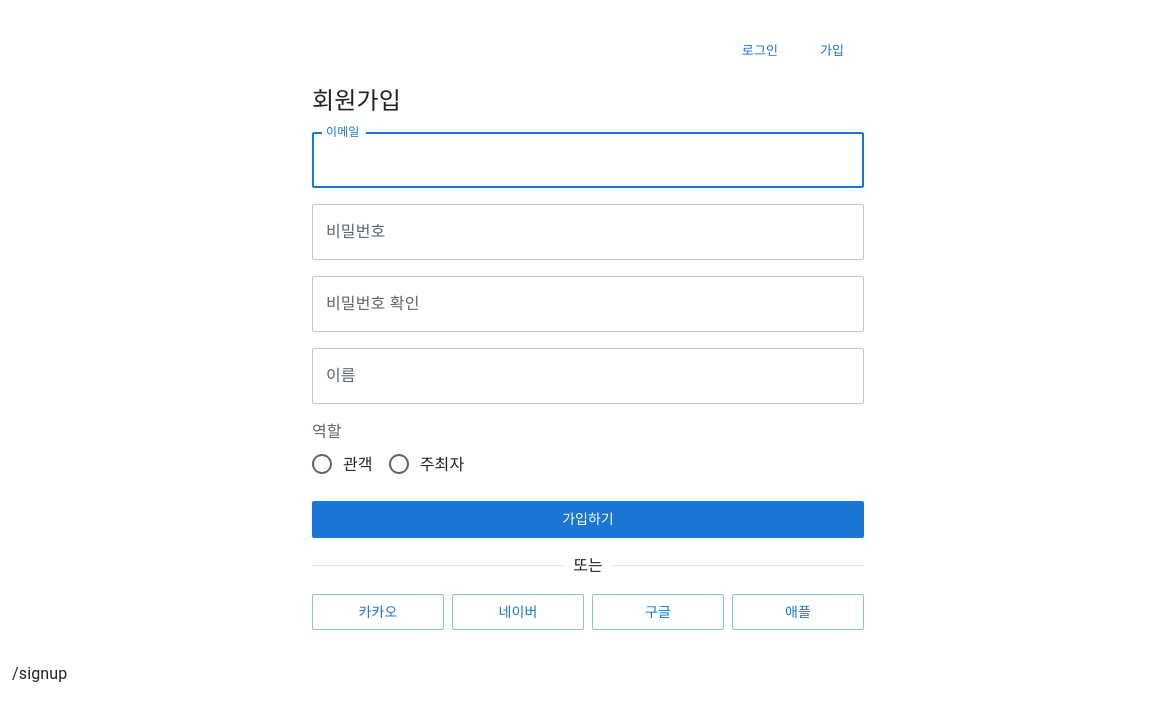
Test: TASK-010 이메일 회원가입/로그인 화면 › SC-07 (error) 필수 입력과 길이 위반은 서버로 보내지 않고 필드 아래에 알린다 — 가입 비밀번호 빈 값
The image size is (1164, 711).
Type "hong@example.com" into the field labelled "이메일".
click(588, 160); type("hong@example.com")  # box [312,132,864,188]
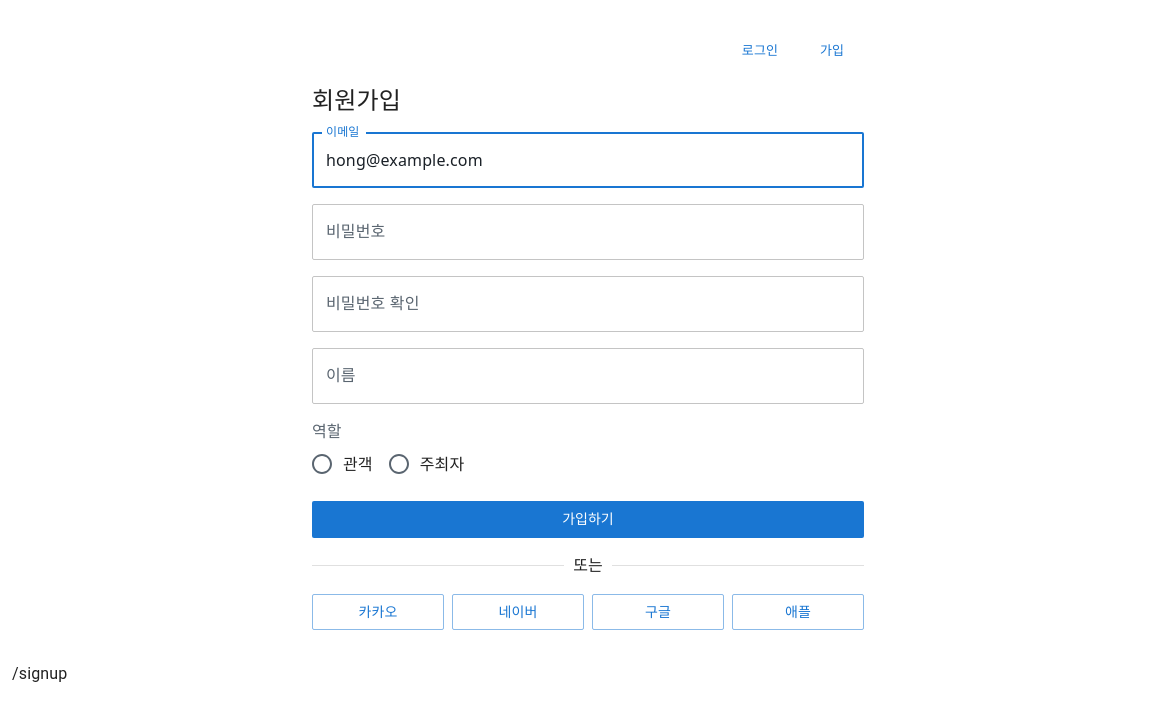
Type "홍길동" into the field labelled "이름".
click(588, 376); type("홍길동")  # box [312,348,864,404]
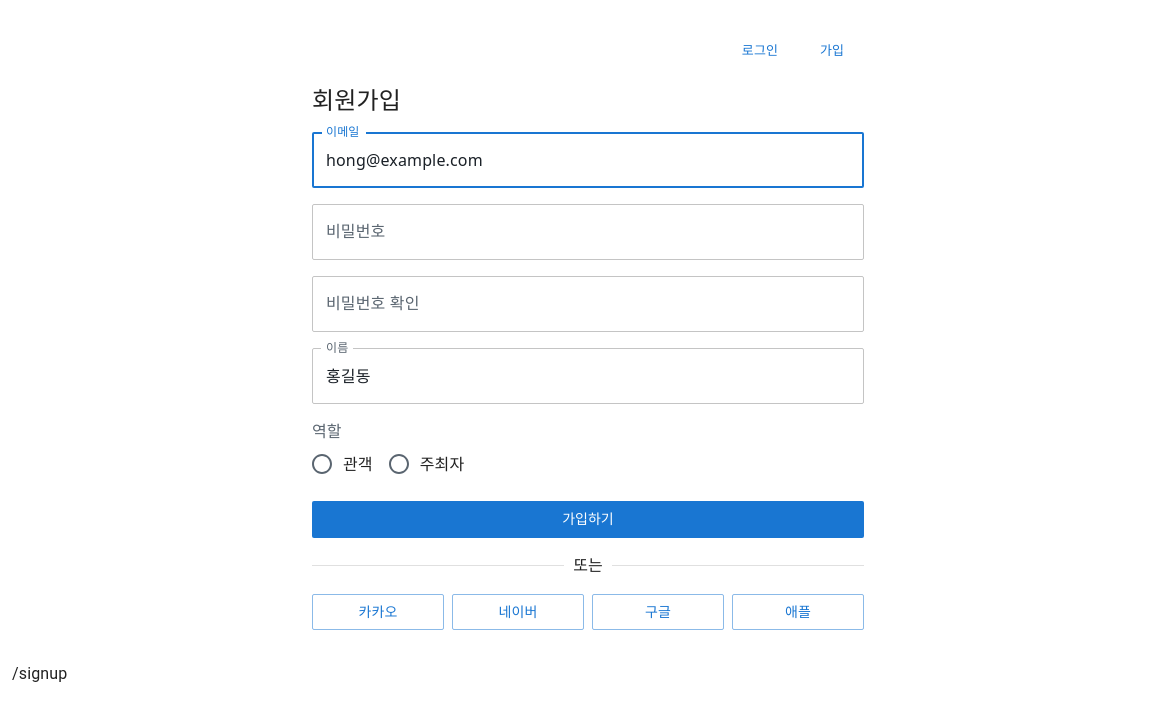
Click the radio button labelled "주최자".
click(426, 464)  # box [387,452,464,476]
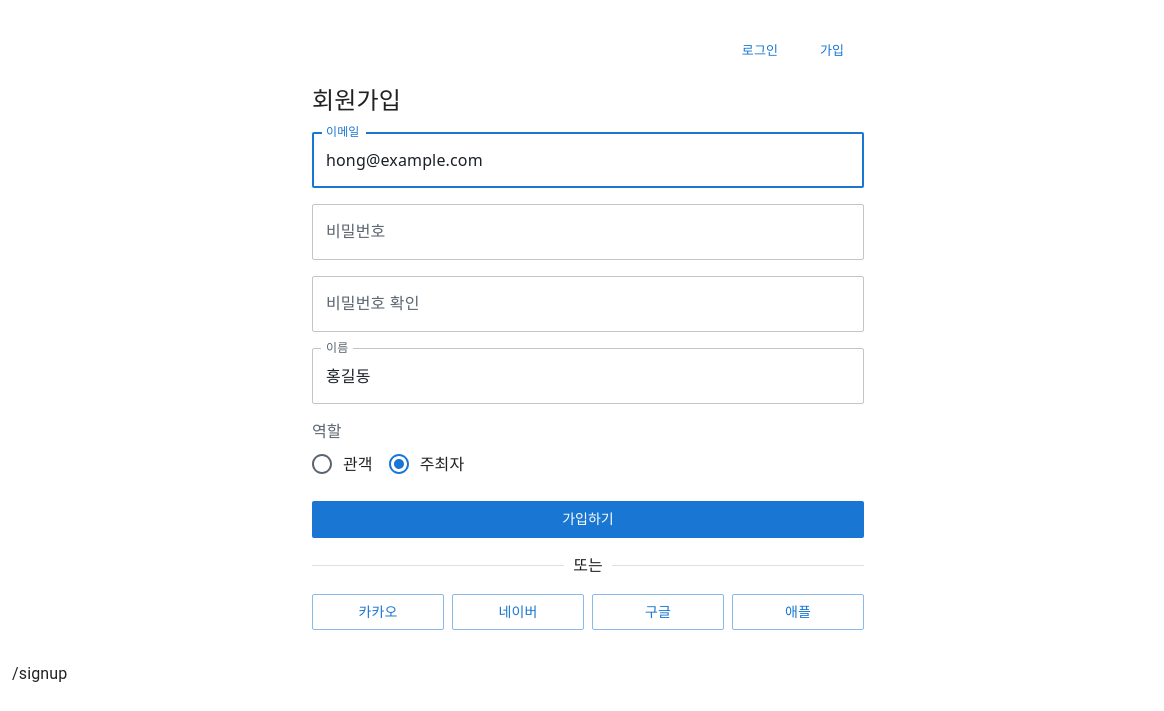
Click the button "가입하기".
click(588, 520)  # box [312,501,864,538]
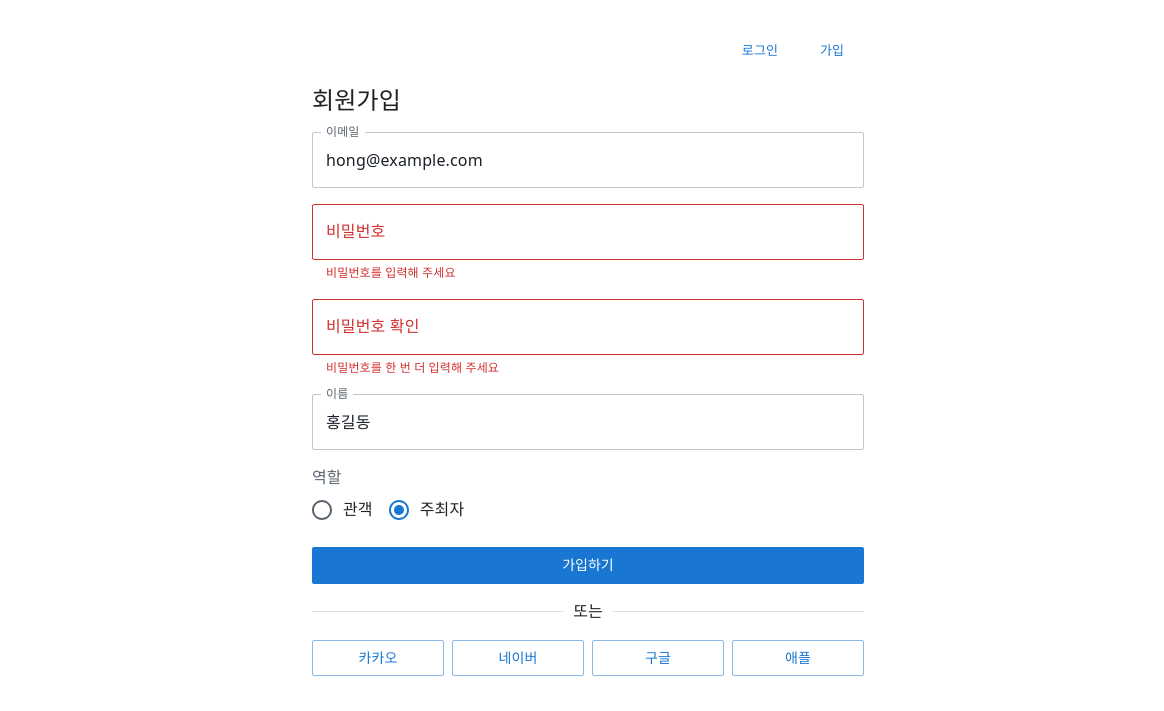
Expected: the text "비밀번호를 입력해 주세요" is shown, [326,264,456,281]
